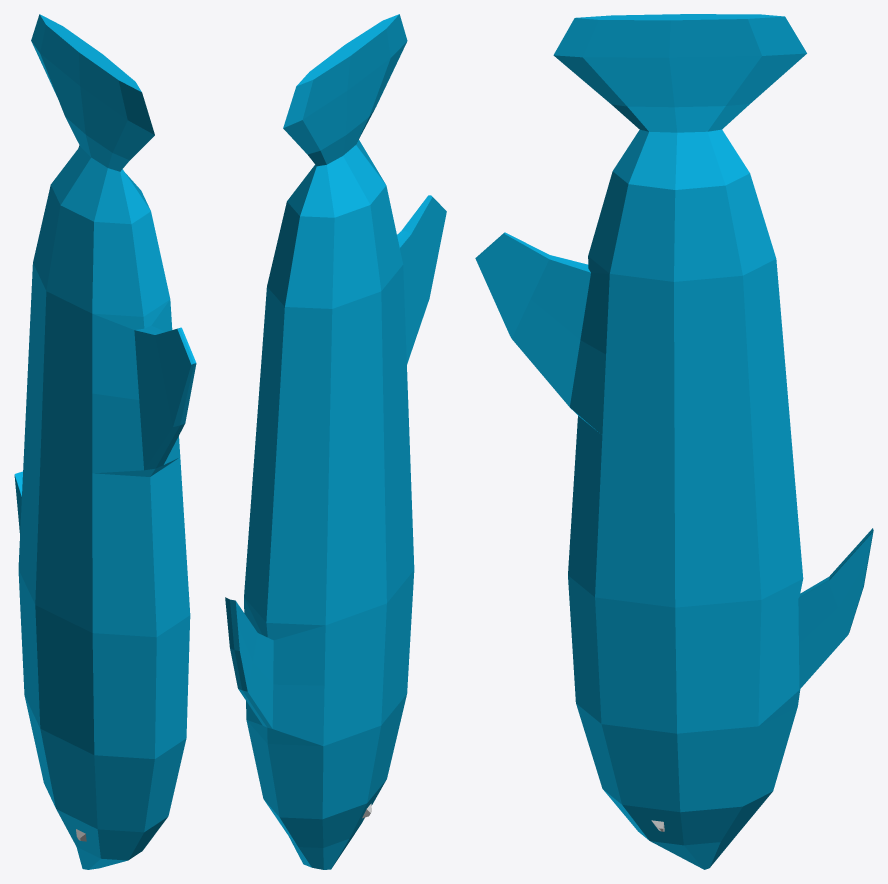
File: Anchovy 1.fbx
3 views of the same model, side by side, from view 1: azimuth 30°, elevation 25°; view 2: azimuth 150°, elevation 25°; view 3: azimuth 270°, elevation 25° (orthographic). The views are drawn at different scales.
Visible parts, largest first — view 1: Circle; view 2: Circle; view 3: Circle.
Boxes of the visible parts, x1,y1,x2,y2 form: Circle: (14, 14, 196, 869); Circle: (225, 14, 446, 869); Circle: (475, 14, 873, 869).
Size of the model in its own units: 64.03 by 396 by 171.
